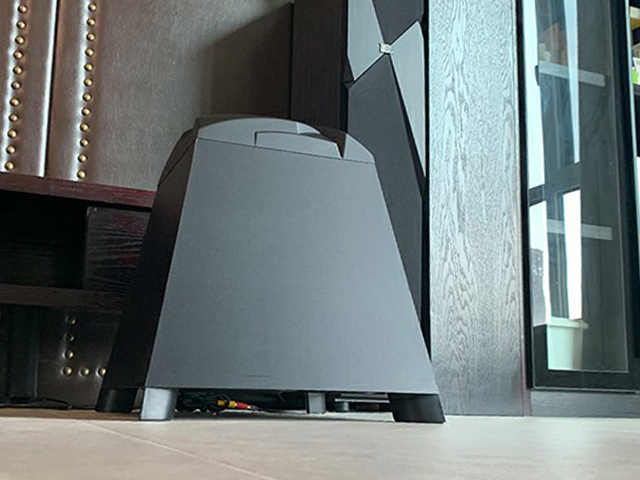cabinet: (427, 1, 640, 418)
wire: (1, 390, 89, 411)
